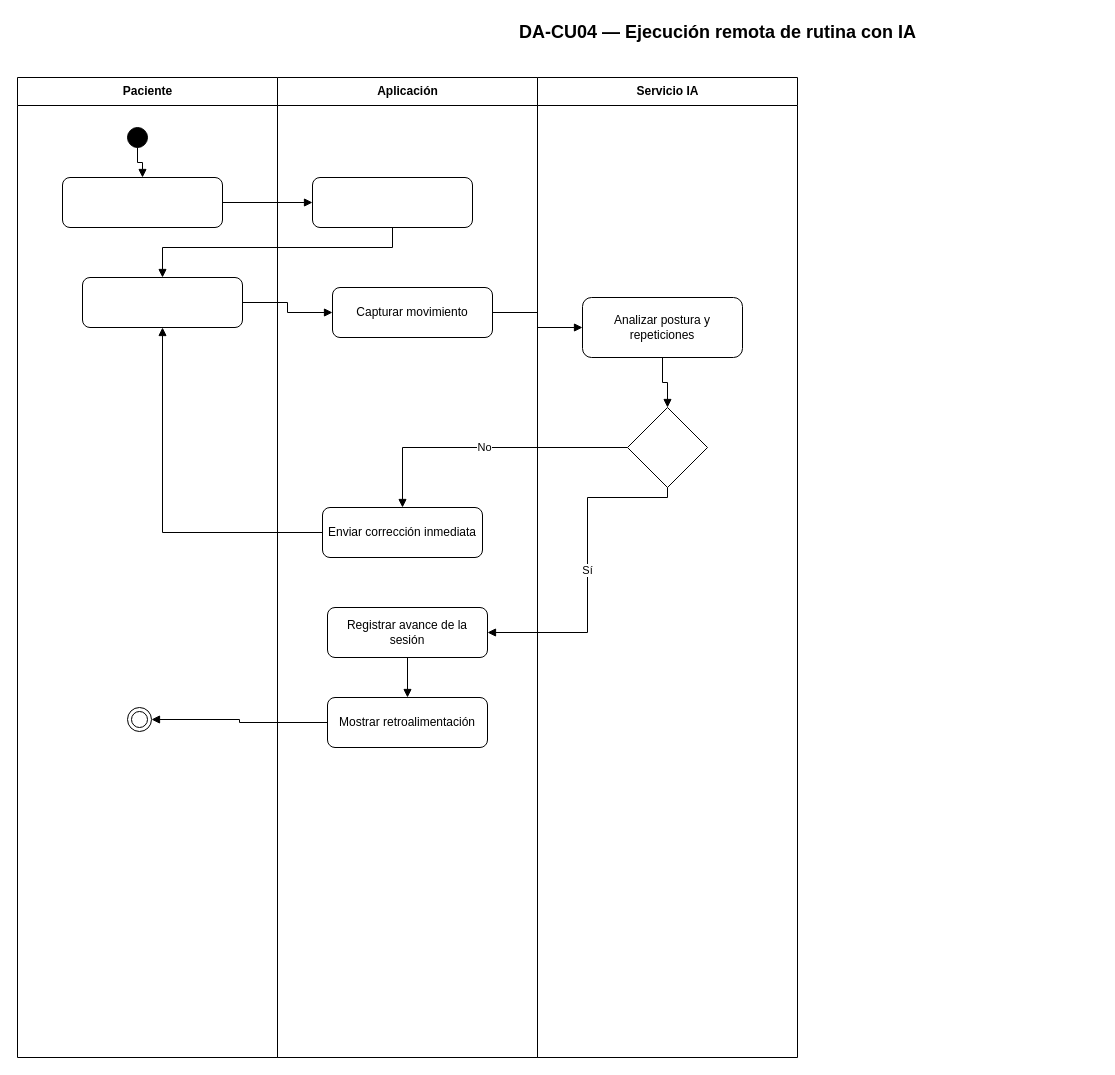
Image size: 1115x1075. Some labels were removed from this diagram. Each missing label, with the centre of its shape:
"Iniciar sesión terapéutica" goes at point 142,202.
"Mostrar rutina y activar cámara" goes at point 392,202.
"Realizar ejercicio" goes at point 162,302.
"¿Ejecución correcta?" goes at point 667,447.
